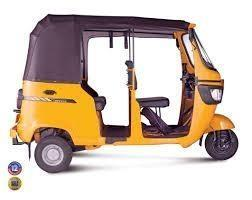keke: (14, 10, 240, 176)
